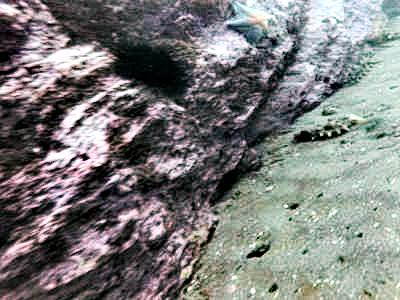urchin: (108, 41, 190, 104)
